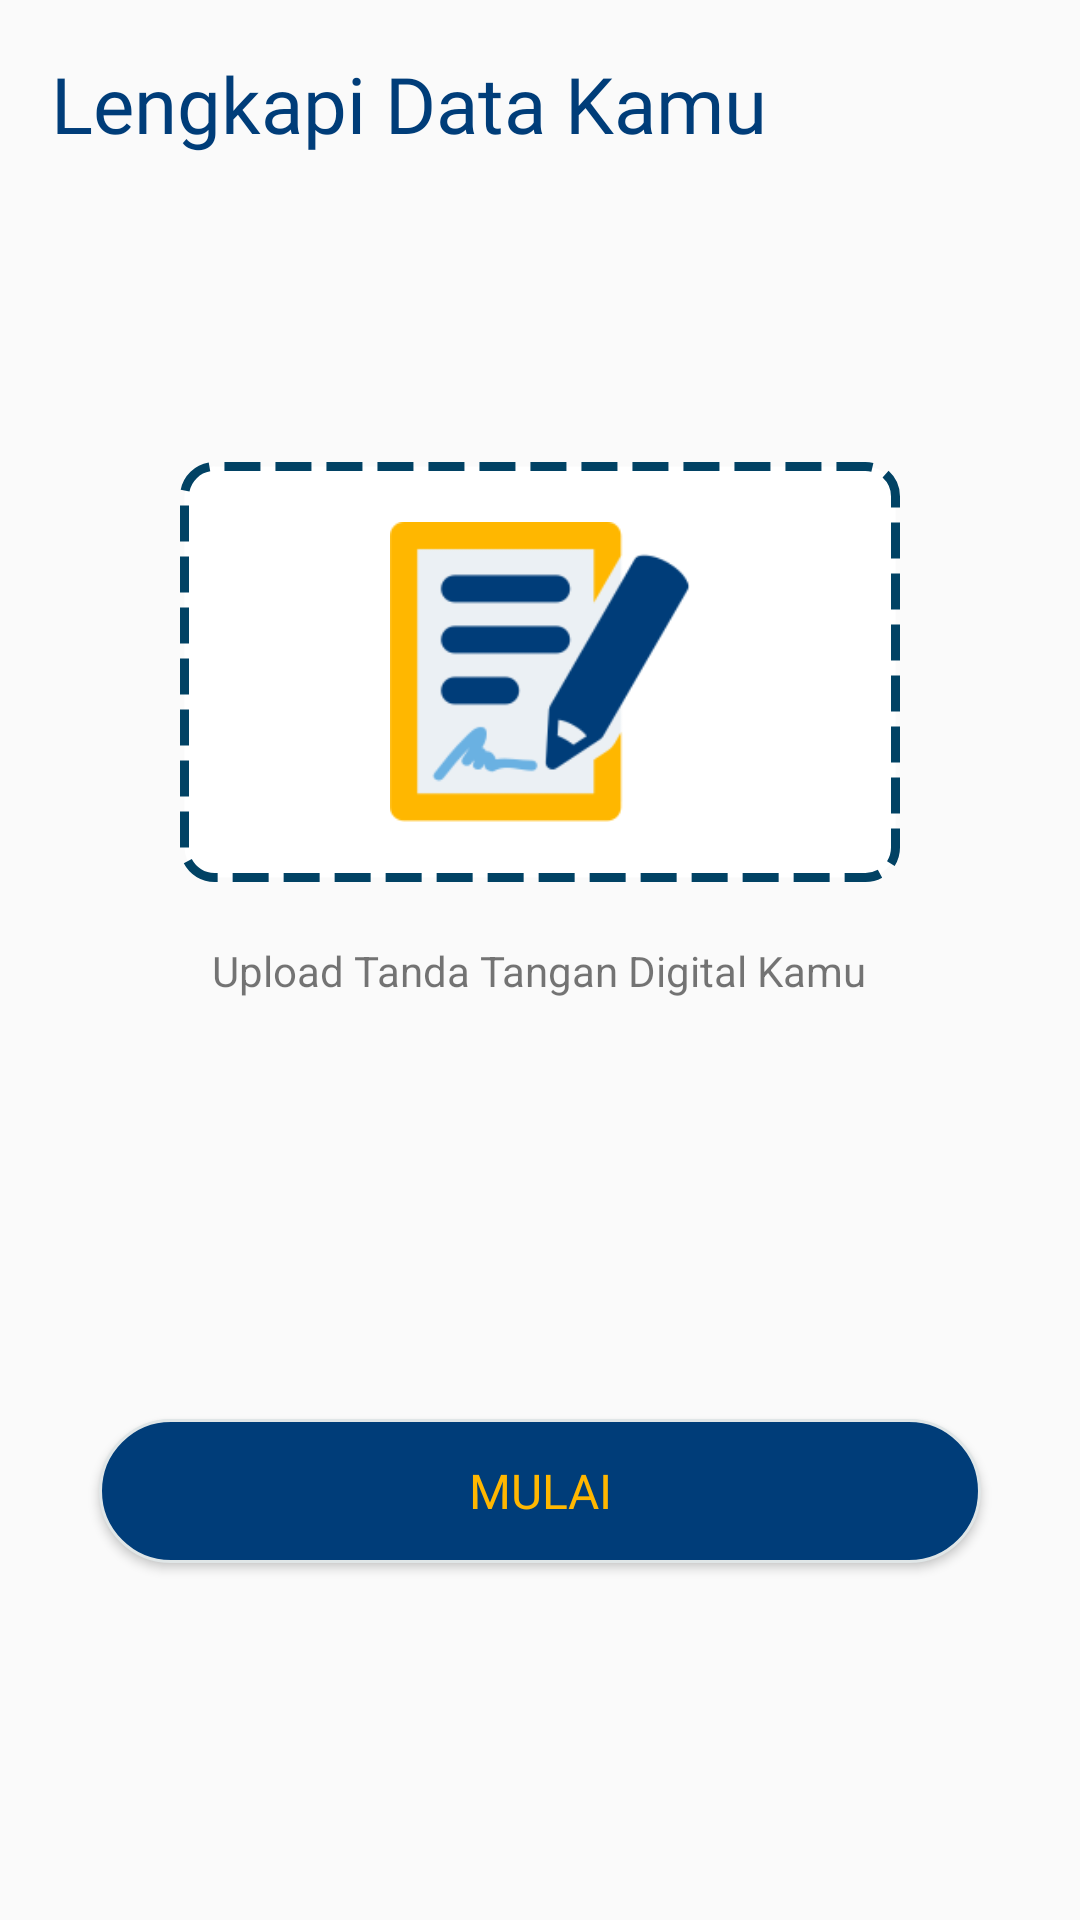

Point at icon controls on the screen. Image size 1080x1920, points as (x=x, y=y).
signing the contract: (x=539, y=672)
